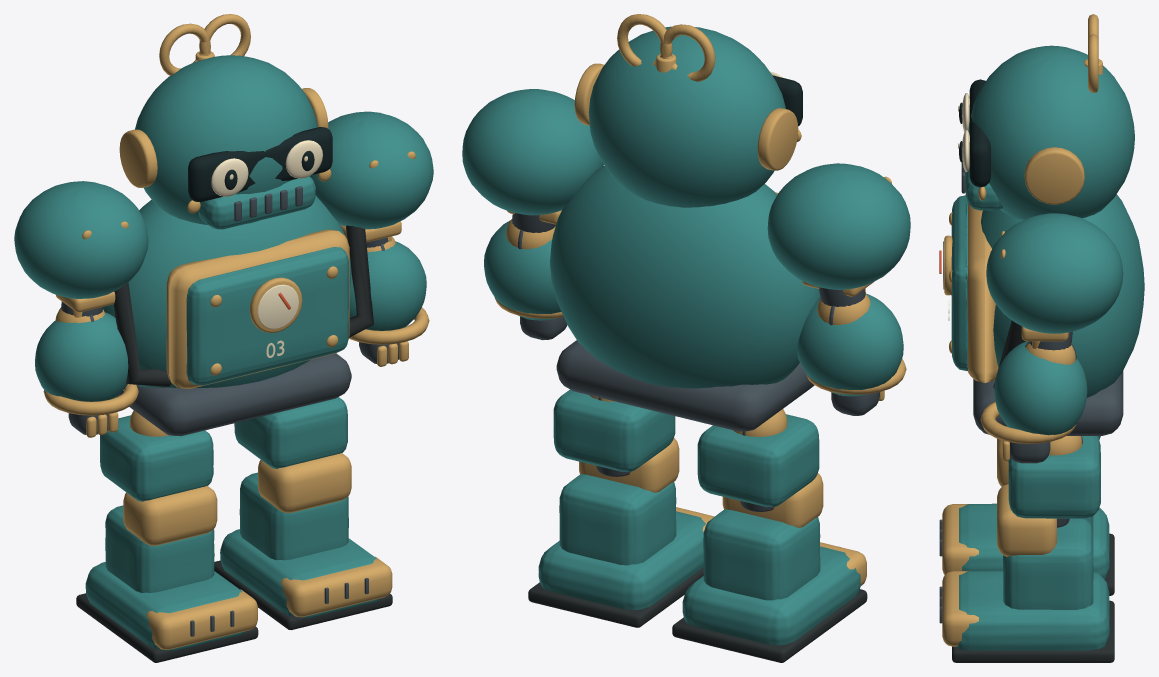
File: boiler_knight.t2.glb
3 views of the same model, side by side, from view 1: azimuth 30°, elevation 25°; view 2: azimuth 150°, elevation 25°; view 3: azimuth 270°, elevation 25° (orthographic). The views are drawn at different scales.
Visible parts, largest first — view 1: slot_torso__clay_petrol_enamel__clay, slot_head__clay_petrol_enamel__clay, slot_legL__clay_petrol_enamel__clay, slot_legR__clay_petrol_enamel__clay, slot_armL__clay_petrol_enamel__clay, slot_armR__clay_petrol_enamel__clay, slot_torso__forged_bluelead_steel__protected, slot_legL__worn_warm_brass__protected, slot_legR__worn_warm_brass__protected, slot_torso__worn_warm_brass__protected, armL_elbow__clay_petrol_enamel__clay, slot_head__worn_warm_brass__protected (+14 smaller); view 2: slot_torso__clay_petrol_enamel__clay, slot_head__clay_petrol_enamel__clay, slot_legL__clay_petrol_enamel__clay, slot_legR__clay_petrol_enamel__clay, slot_armL__clay_petrol_enamel__clay, slot_armR__clay_petrol_enamel__clay, slot_torso__forged_bluelead_steel__protected, armL_elbow__clay_petrol_enamel__clay, slot_head__worn_warm_brass__protected, armR_elbow__clay_petrol_enamel__clay, slot_legL__worn_warm_brass__protected, slot_legL__charcoal_rubber__protected (+10 smaller); view 3: slot_legR__clay_petrol_enamel__clay, slot_head__clay_petrol_enamel__clay, slot_armR__clay_petrol_enamel__clay, slot_torso__clay_petrol_enamel__clay, armR_elbow__clay_petrol_enamel__clay, slot_legR__worn_warm_brass__protected, slot_torso__worn_warm_brass__protected, slot_head__worn_warm_brass__protected, slot_legL__clay_petrol_enamel__clay, slot_torso__forged_bluelead_steel__protected, slot_legR__charcoal_rubber__protected, slot_legL__worn_warm_brass__protected (+8 smaller).
Boxes of the visible parts, bbox=[...] form: slot_torso__clay_petrol_enamel__clay: bbox=[103, 195, 351, 388]; slot_head__clay_petrol_enamel__clay: bbox=[135, 55, 317, 229]; slot_legL__clay_petrol_enamel__clay: bbox=[85, 415, 245, 651]; slot_legR__clay_petrol_enamel__clay: bbox=[220, 397, 379, 618]; slot_armL__clay_petrol_enamel__clay: bbox=[14, 181, 148, 298]; slot_armR__clay_petrol_enamel__clay: bbox=[309, 111, 433, 229]; slot_torso__forged_bluelead_steel__protected: bbox=[116, 353, 351, 436]; slot_legL__worn_warm_brass__protected: bbox=[123, 410, 257, 649]; slot_legR__worn_warm_brass__protected: bbox=[258, 453, 392, 617]; slot_torso__worn_warm_brass__protected: bbox=[166, 229, 349, 388]; armL_elbow__clay_petrol_enamel__clay: bbox=[35, 312, 128, 401]; slot_head__worn_warm_brass__protected: bbox=[119, 14, 331, 213]; slot_torso__clay_petrol_enamel__clay: bbox=[550, 165, 820, 388]; slot_head__clay_petrol_enamel__clay: bbox=[588, 26, 785, 207]; slot_legL__clay_petrol_enamel__clay: bbox=[682, 414, 861, 645]; slot_legR__clay_petrol_enamel__clay: bbox=[538, 389, 705, 610]; slot_armL__clay_petrol_enamel__clay: bbox=[767, 163, 910, 289]; slot_armR__clay_petrol_enamel__clay: bbox=[462, 89, 603, 215]; slot_torso__forged_bluelead_steel__protected: bbox=[556, 340, 814, 431]; armL_elbow__clay_petrol_enamel__clay: bbox=[797, 293, 903, 396]; slot_head__worn_warm_brass__protected: bbox=[574, 14, 801, 170]; armR_elbow__clay_petrol_enamel__clay: bbox=[484, 220, 561, 320]; slot_legL__worn_warm_brass__protected: bbox=[722, 409, 866, 585]; slot_legL__charcoal_rubber__protected: bbox=[672, 589, 867, 662]; slot_legR__clay_petrol_enamel__clay: bbox=[953, 436, 1109, 650]; slot_head__clay_petrol_enamel__clay: bbox=[965, 45, 1134, 219]; slot_armR__clay_petrol_enamel__clay: bbox=[986, 213, 1123, 333]; slot_torso__clay_petrol_enamel__clay: bbox=[951, 194, 1144, 397]; armR_elbow__clay_petrol_enamel__clay: bbox=[994, 341, 1087, 435]; slot_legR__worn_warm_brass__protected: bbox=[942, 436, 1082, 646]; slot_torso__worn_warm_brass__protected: bbox=[944, 203, 998, 382]; slot_head__worn_warm_brass__protected: bbox=[978, 14, 1102, 204]; slot_legL__clay_petrol_enamel__clay: bbox=[959, 436, 1109, 579]; slot_torso__forged_bluelead_steel__protected: bbox=[973, 371, 1123, 435]; slot_legR__charcoal_rubber__protected: bbox=[952, 600, 1114, 662]; slot_legL__worn_warm_brass__protected: bbox=[942, 438, 1008, 574].
Bounding box in the file's own units: 1.99 × 2.68 × 0.8631.
